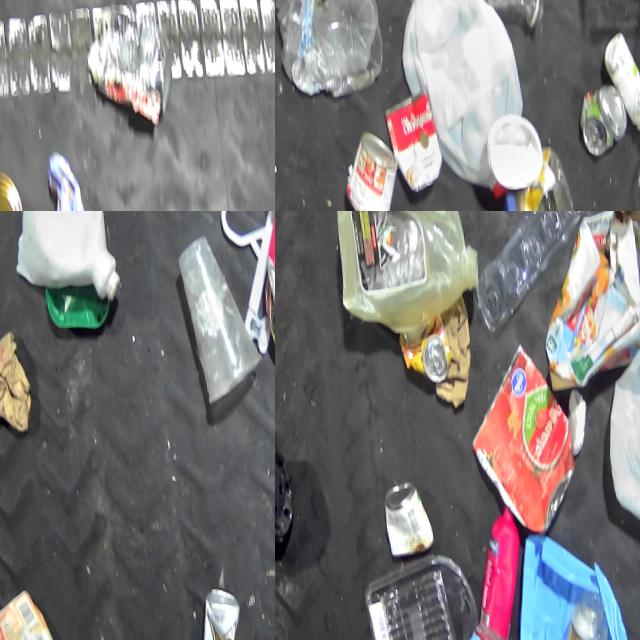can: (457, 346, 572, 546), (81, 7, 172, 132), (373, 96, 434, 200), (330, 131, 390, 211), (373, 482, 426, 562), (566, 94, 620, 169), (393, 324, 448, 388), (182, 588, 235, 640)
milk_jug: (386, 0, 520, 211), (326, 211, 477, 336), (0, 211, 117, 311), (592, 333, 640, 548)
non_white_jug: (528, 211, 640, 392), (0, 585, 70, 640), (36, 156, 89, 211)
plastic_bottle: (605, 0, 640, 211), (421, 0, 538, 50), (302, 0, 372, 80), (486, 157, 566, 211)
